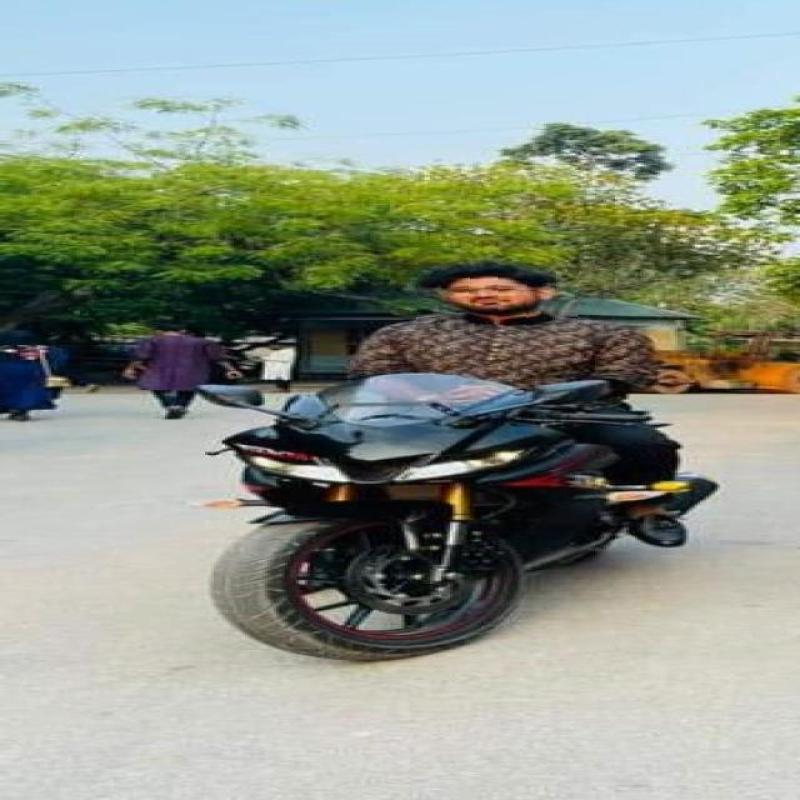nohelmet: (416, 248, 578, 332)
